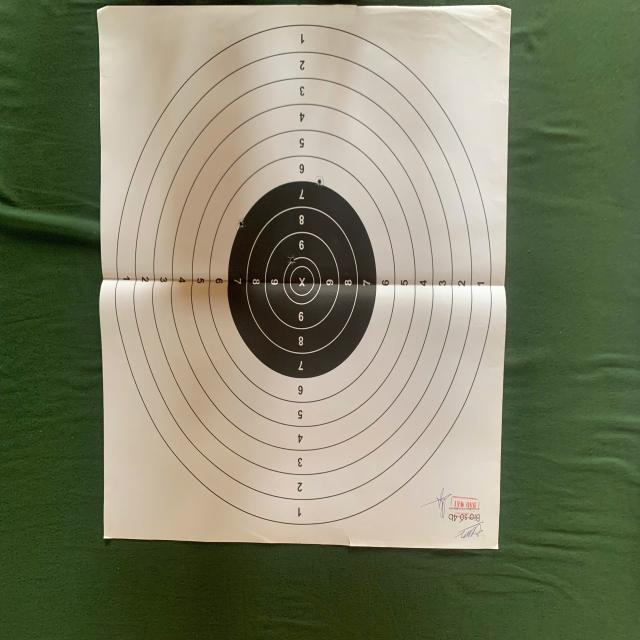bullet: (316, 176, 324, 186), (238, 220, 244, 227), (288, 256, 296, 260)
target: (100, 8, 512, 548)
